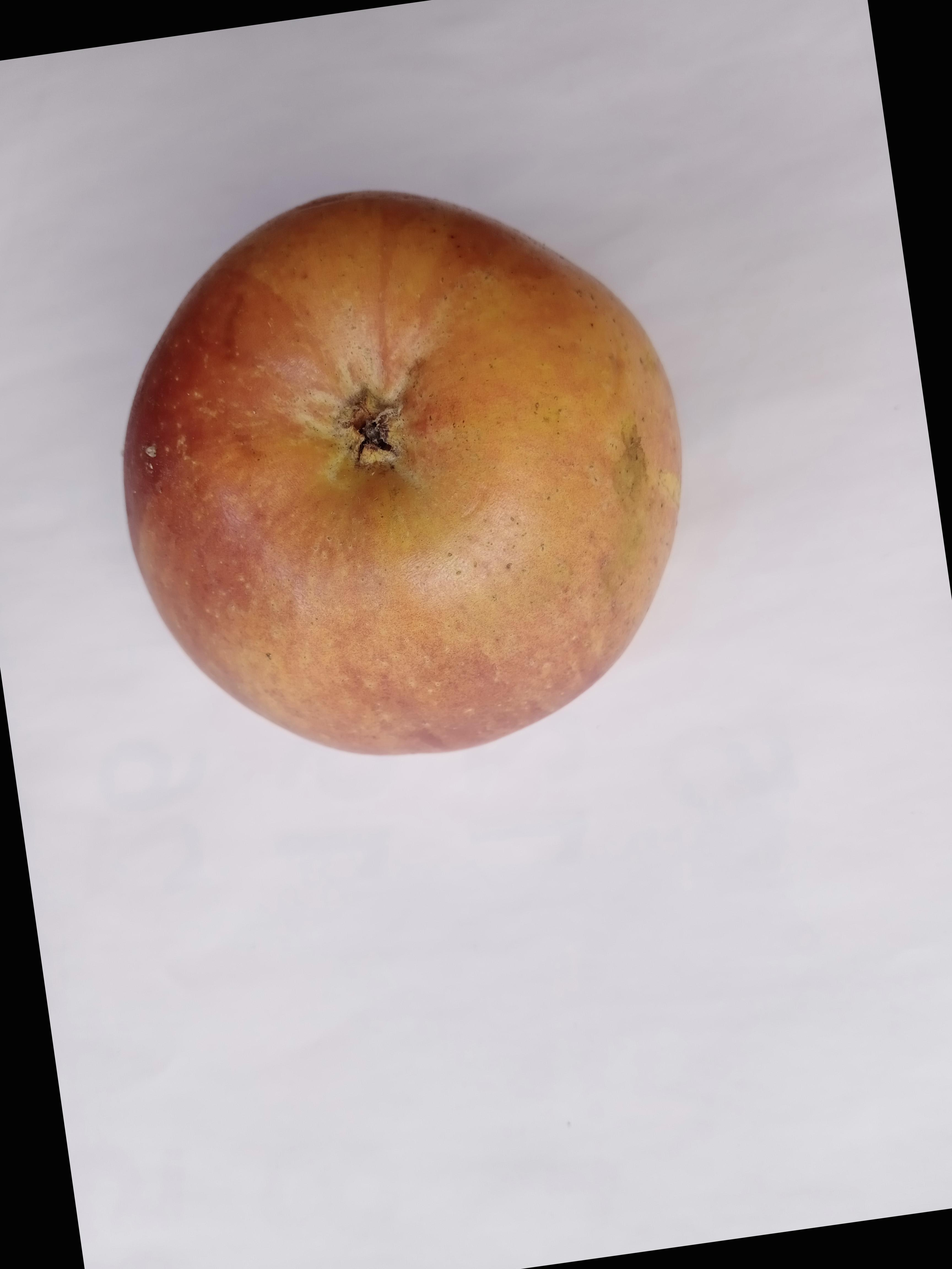Apple Ripe: (0, 219, 639, 914)
